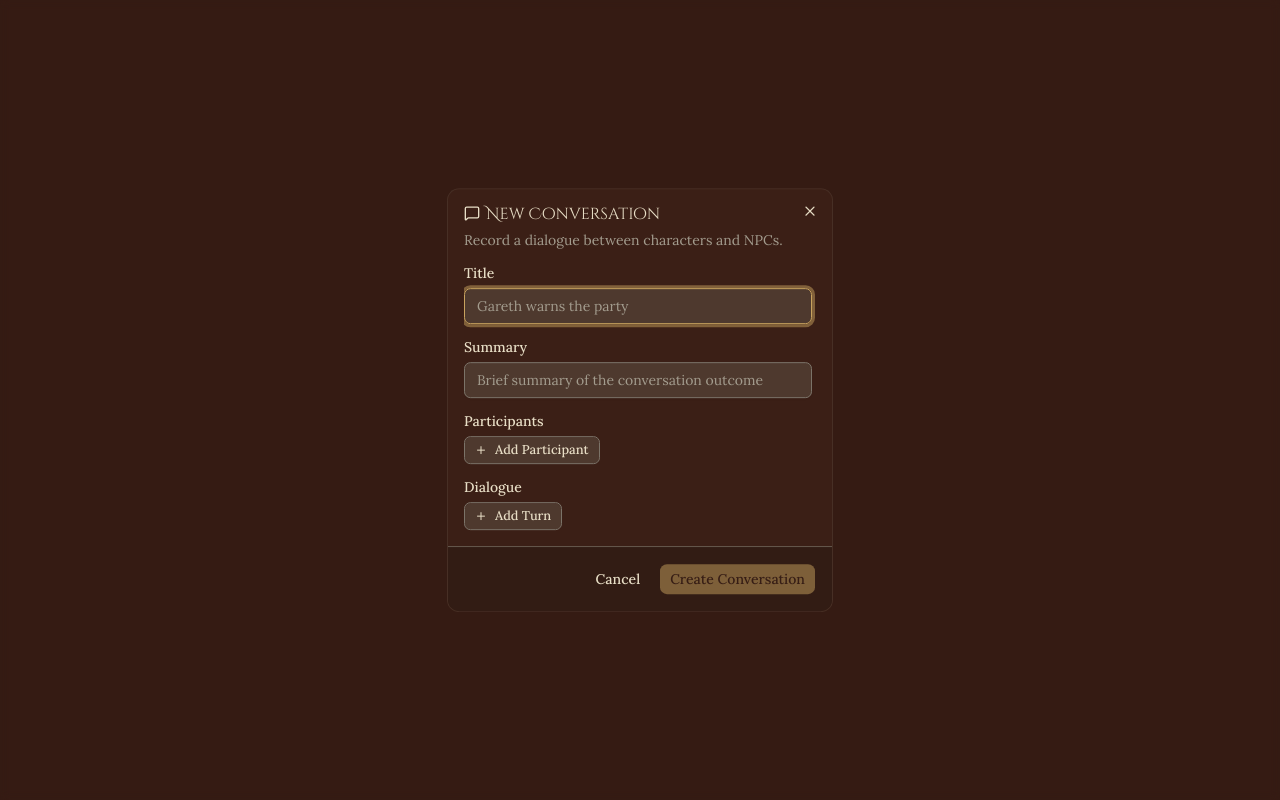
Test: ConversationCreate › adds a dialogue turn with speaker, text, and tone fields
This screenshot has width=1280, height=800.
Click the button "Add Turn" at (513, 516), box [464,502,562,530]
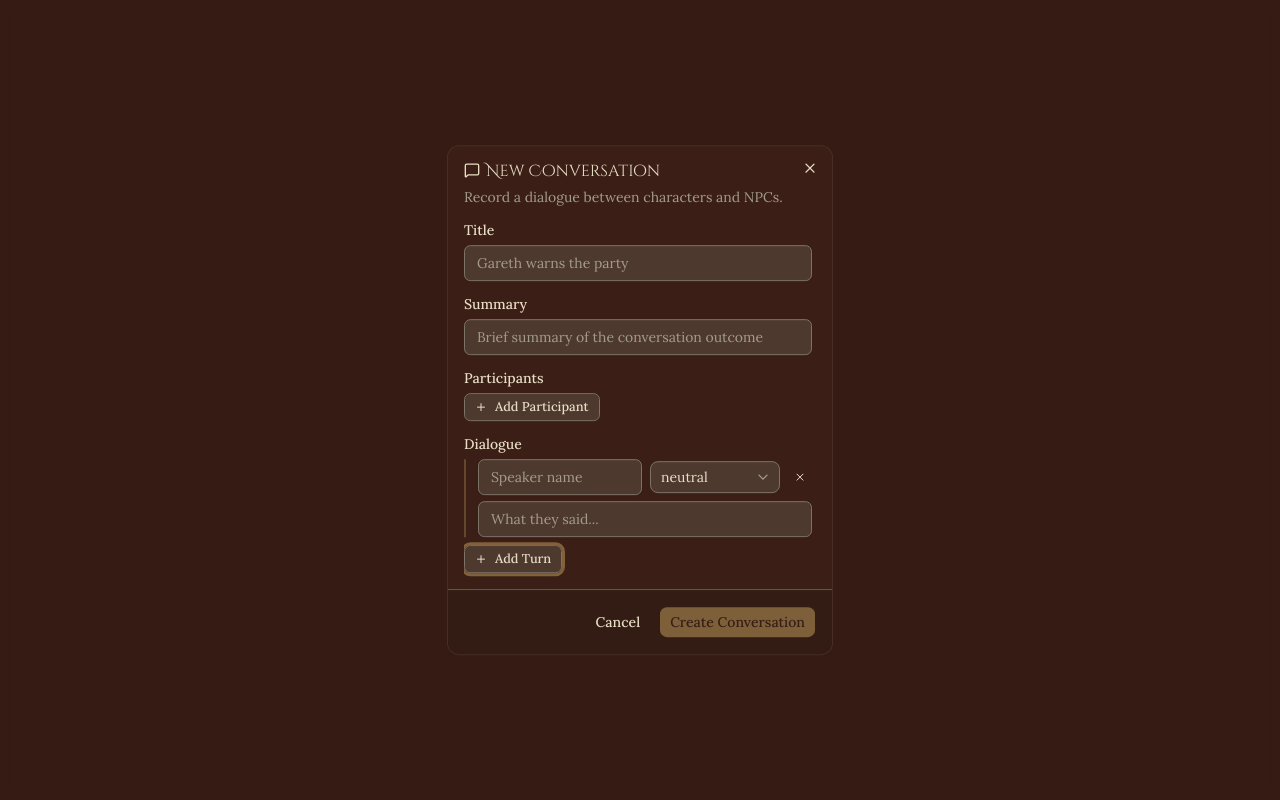
Expected: the field with placeholder "Speaker name" is shown, [478,459,642,495]
Expected: the field with placeholder "What they said..." is shown, [478,501,812,537]
